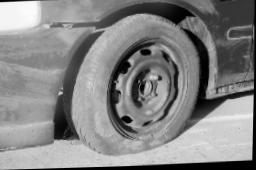Bumper: (0, 27, 98, 152)
